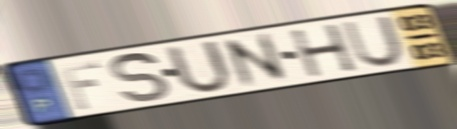F: (57, 59, 104, 112)
H: (287, 21, 360, 80)
N: (218, 31, 293, 91)
S: (109, 51, 172, 104)
U: (162, 38, 234, 96), (340, 13, 407, 69)
